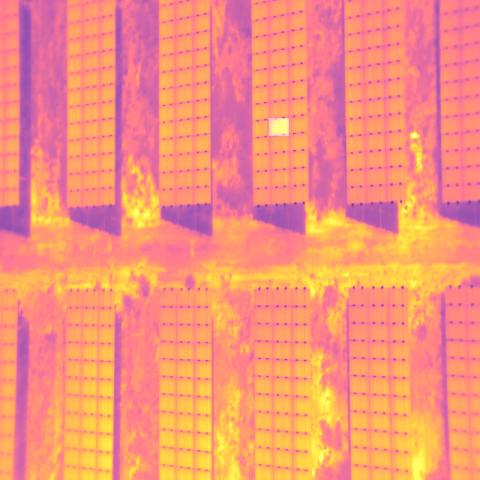fault: (269, 118, 289, 136)
